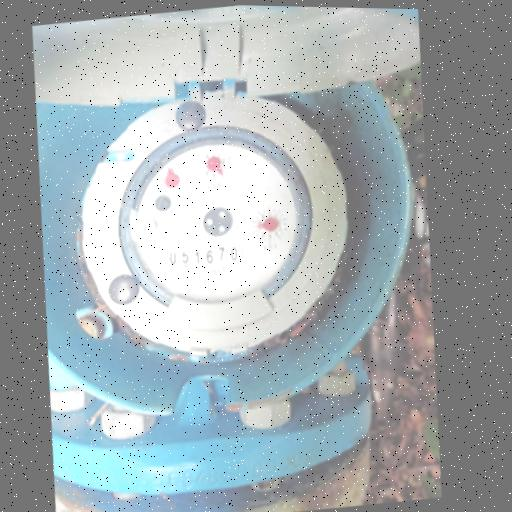0: (167, 251, 182, 269), (228, 246, 243, 264)
1: (192, 249, 205, 267)
5: (179, 249, 194, 268)
6: (203, 247, 218, 265)
7: (216, 247, 231, 265)
border_water_meter_number: (166, 242, 246, 272)
